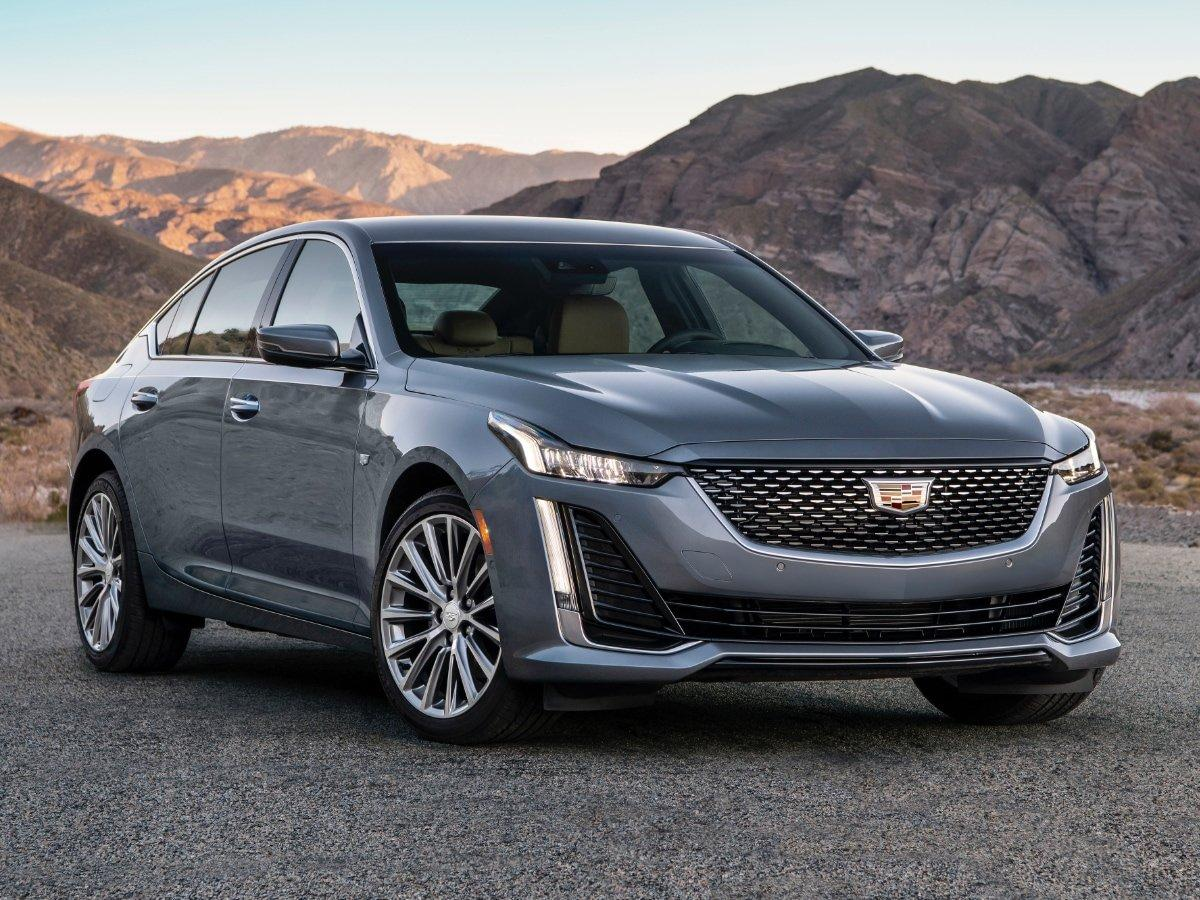car: (57, 193, 1118, 746)
